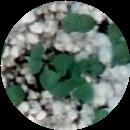Basil: (105, 22, 130, 61), (49, 65, 80, 95), (42, 53, 71, 85), (70, 79, 96, 100), (27, 46, 44, 73), (78, 56, 106, 72), (63, 14, 96, 27)
